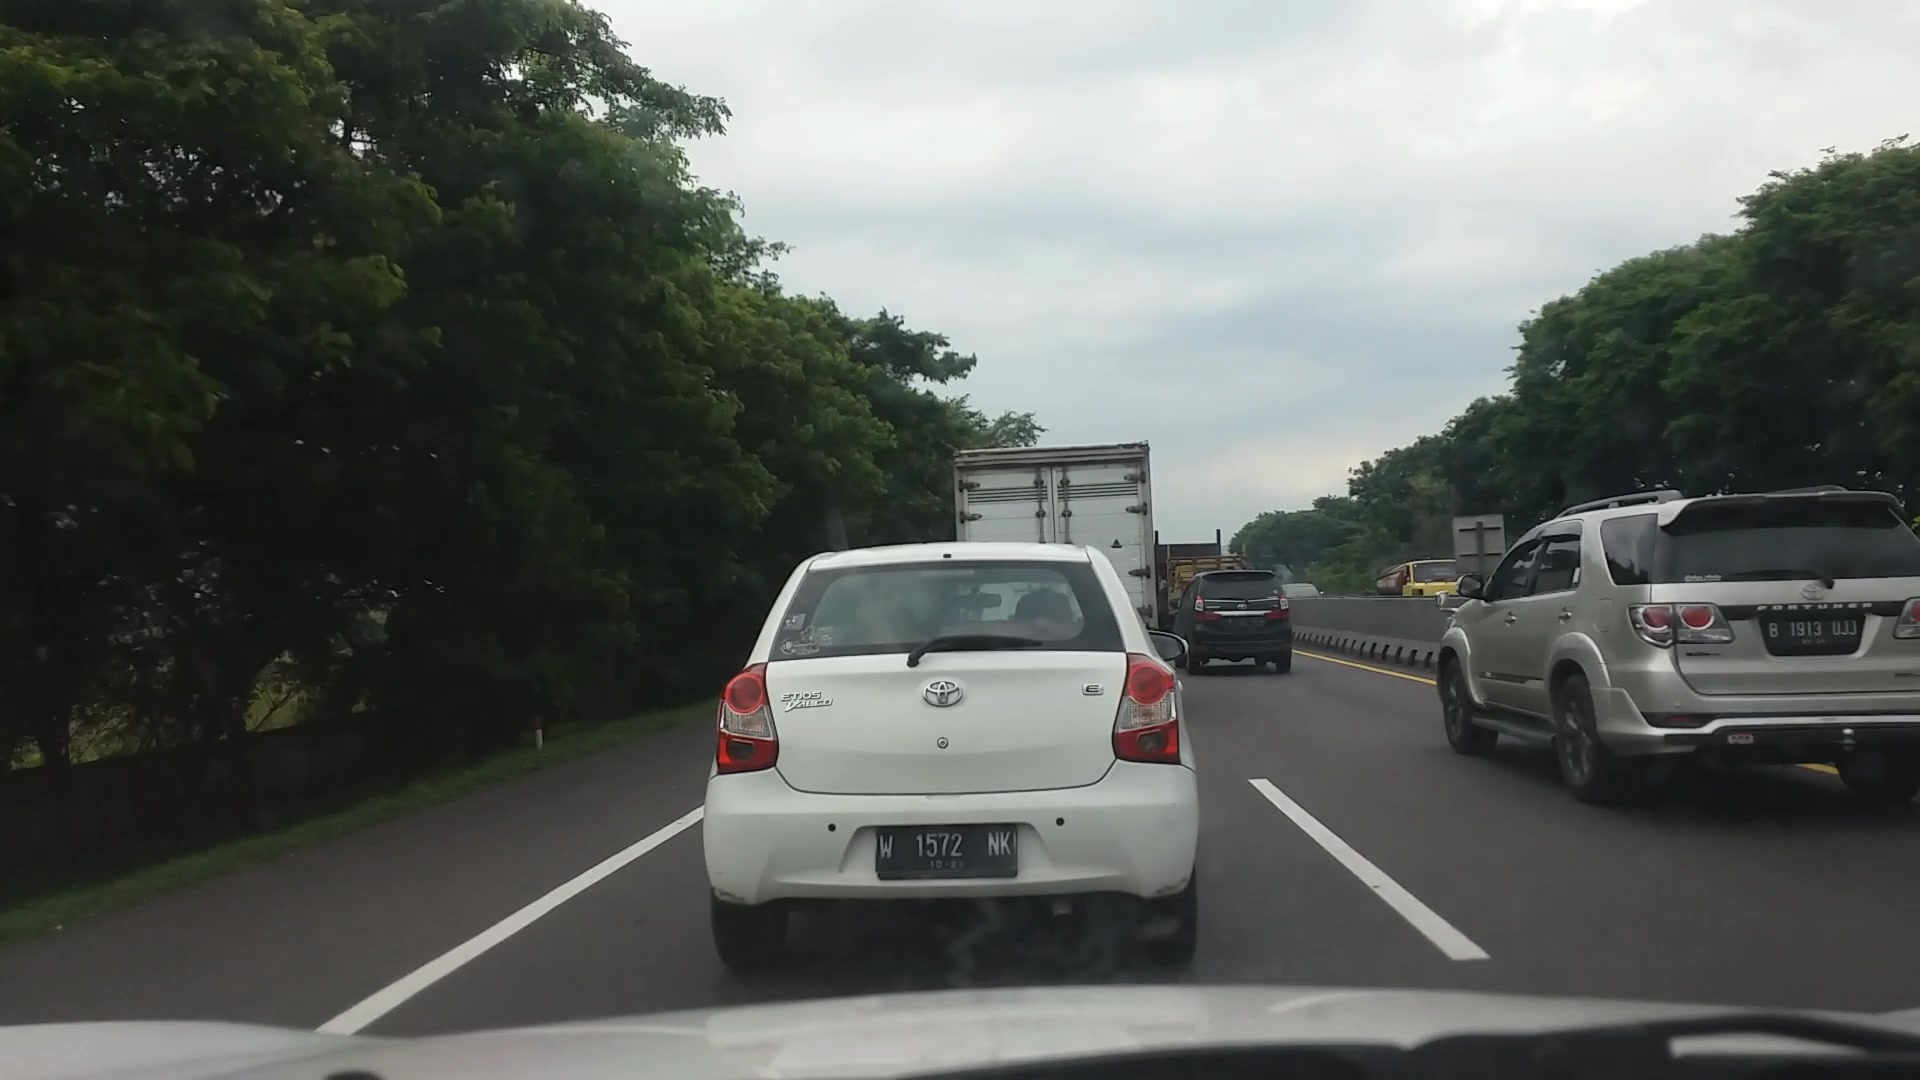plate_positive: (876, 823, 1018, 881)
